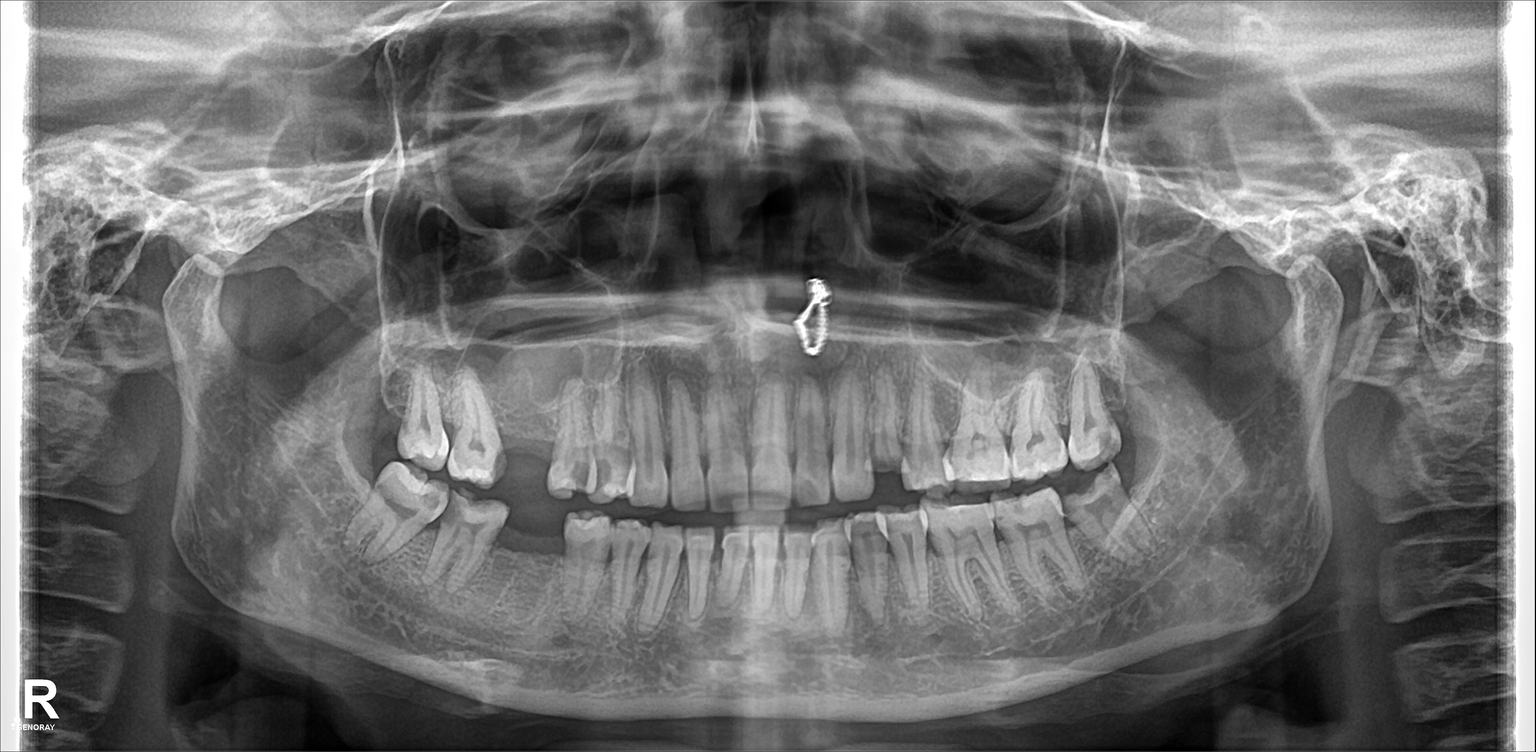Missing Tooth: (497, 369, 554, 481), (505, 512, 565, 606), (367, 365, 410, 460)
